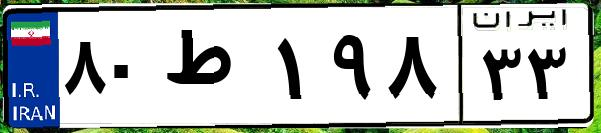0: (110, 28, 158, 98)
1: (270, 28, 330, 110)
3: (475, 38, 525, 113), (525, 38, 570, 115)
8: (385, 28, 445, 110), (57, 26, 110, 100)
9: (330, 28, 385, 110)
ط: (158, 20, 270, 120)
